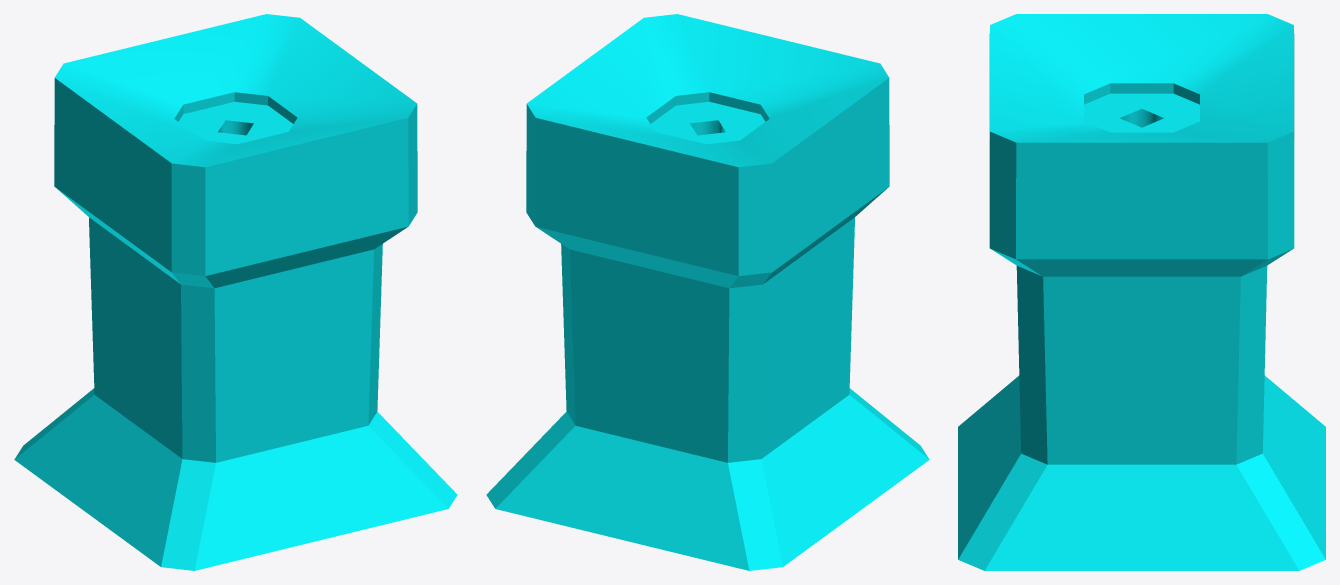
Rendered from Cenicero.FBX.
3 renders of one model, left to right at view 1: azimuth 30°, elevation 25°; view 2: azimuth 150°, elevation 25°; view 3: azimuth 270°, elevation 25°, orthographic. The views are drawn at different scales.
Parts seen in each view (by area): view 1: Cenicero_LP; view 2: Cenicero_LP; view 3: Cenicero_LP.
Part boxes in pixels (bbox=[...]): Cenicero_LP: bbox=[14, 14, 457, 570]; Cenicero_LP: bbox=[486, 14, 929, 570]; Cenicero_LP: bbox=[958, 14, 1325, 570].
Bounding box in the file's own units: 151 × 188 × 151.
